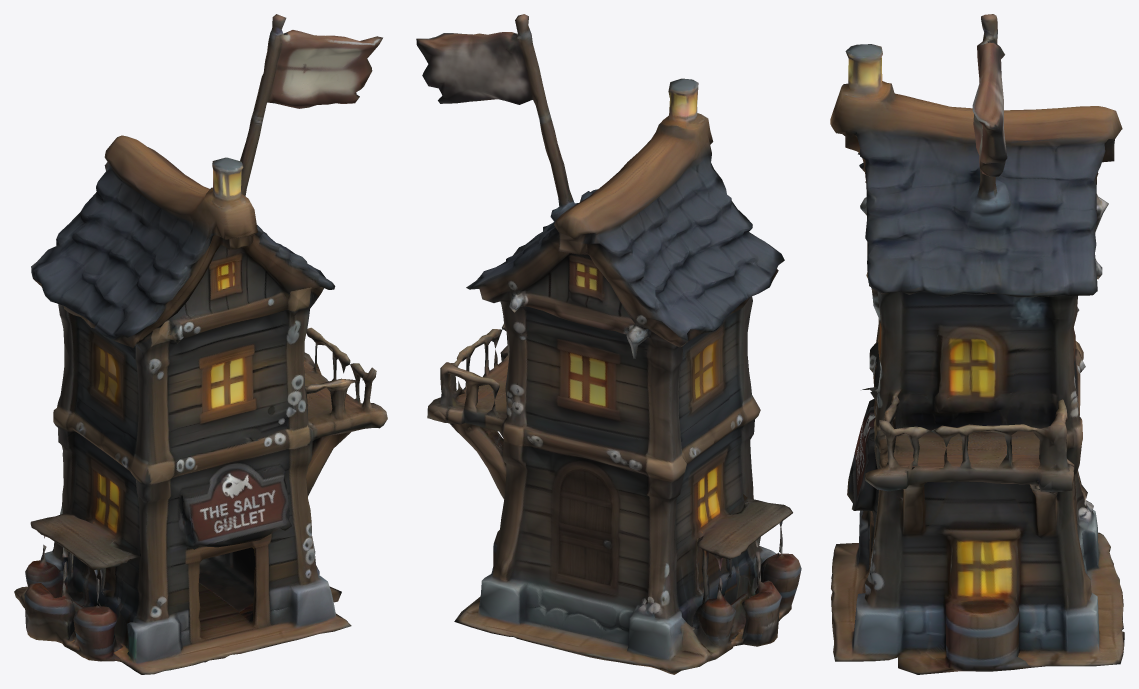
Rendered from taverna_dos_piratas.glb.
3 renders of one model, left to right at view 1: azimuth 30°, elevation 25°; view 2: azimuth 150°, elevation 25°; view 3: azimuth 270°, elevation 25°, orthographic. The views are drawn at different scales.
Bounding box in the file's own units: 1.31 × 2 × 0.8229.
1 material, 1 textured.
